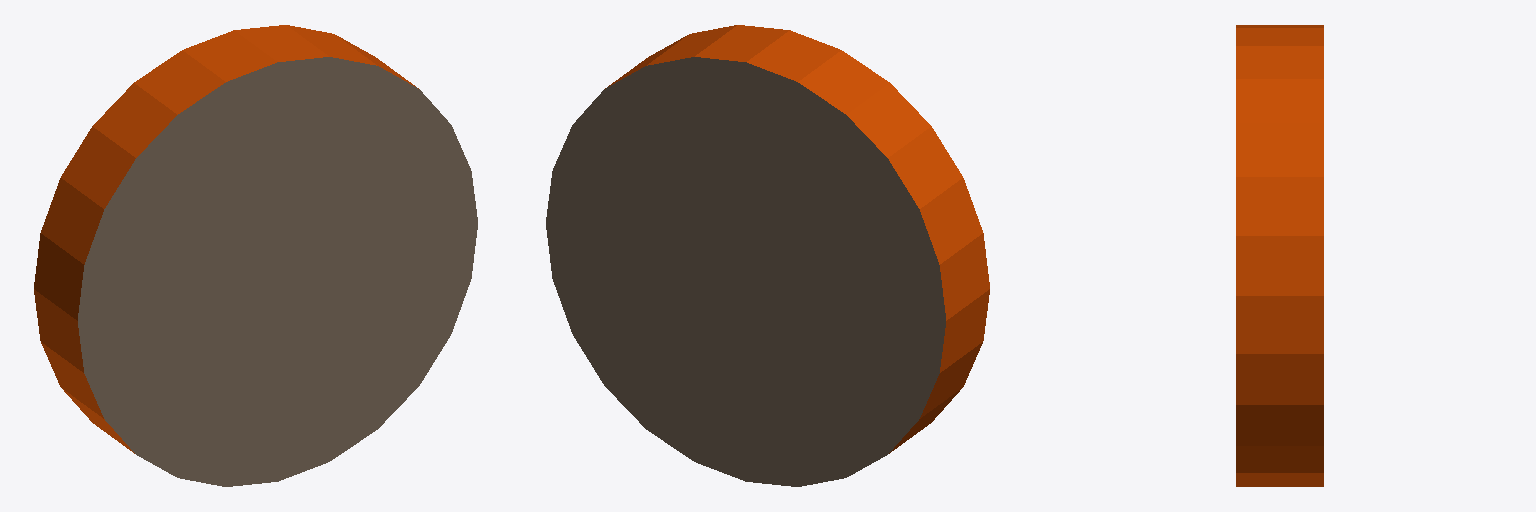
File: coin.obj
3 renders of one model, left to right at view 1: azimuth 30°, elevation 25°; view 2: azimuth 150°, elevation 25°; view 3: azimuth 270°, elevation 25°, orthographic.
Parts seen in each view (by area): view 1: Mesh1 SUBWAY_SURFERS_Coin1 Model; view 2: Mesh1 SUBWAY_SURFERS_Coin1 Model; view 3: Mesh1 SUBWAY_SURFERS_Coin1 Model.
Boxes of the visible parts, x1=… form: Mesh1 SUBWAY_SURFERS_Coin1 Model: x1=34, y1=25, x2=477, y2=486; Mesh1 SUBWAY_SURFERS_Coin1 Model: x1=546, y1=25, x2=989, y2=486; Mesh1 SUBWAY_SURFERS_Coin1 Model: x1=1236, y1=25, x2=1323, y2=486.
Bounding box in the file's own units: 123 × 123 × 23.29.